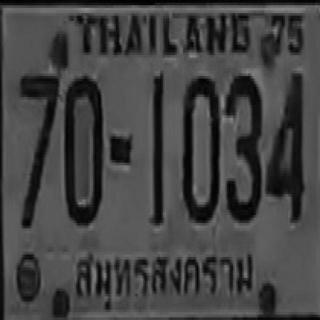N00: (64, 74, 104, 223), (182, 74, 220, 220)
N01: (151, 74, 163, 223)
N03: (224, 74, 260, 220)
N04: (265, 71, 303, 218)
N07: (17, 73, 59, 226)
P59: (70, 243, 261, 316)
